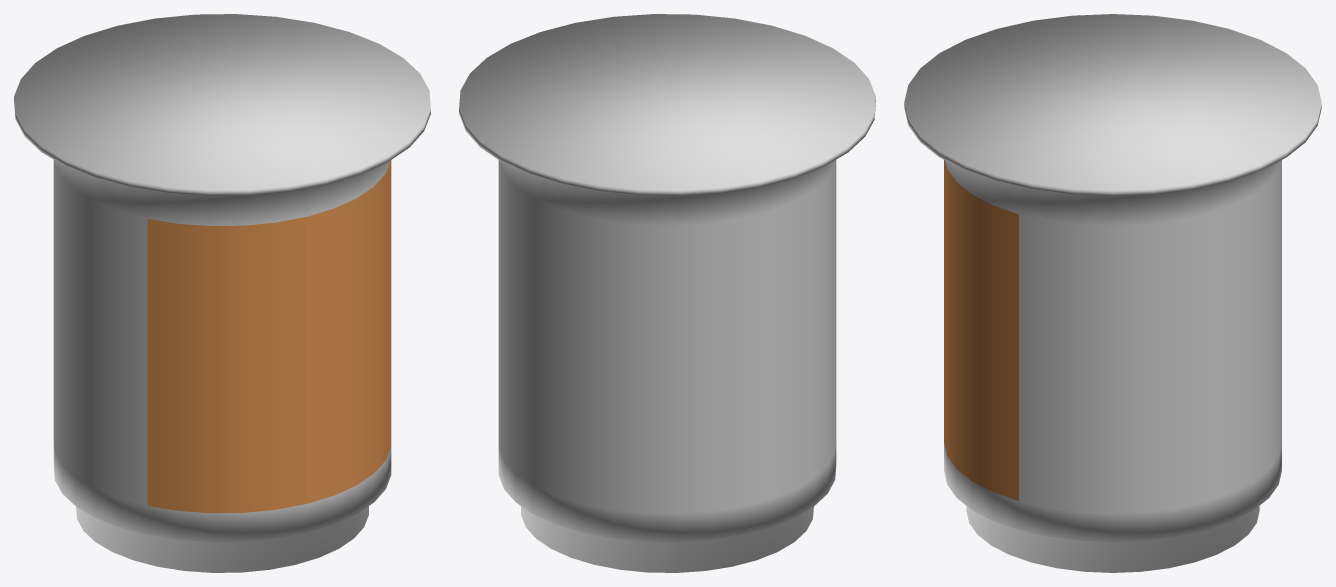
File: cubo.glb
The picture shows the model from 3 angles, left to right: view 1: azimuth 30°, elevation 25°; view 2: azimuth 150°, elevation 25°; view 3: azimuth 270°, elevation 25°; orthographic projection.
Parts seen in each view (by area): view 1: Cylinder, Cylinder.001, Cylinder.002; view 2: Cylinder; view 3: Cylinder, Cylinder.002.
Boxes of the visible parts, x1,y1,x2,y2 form: Cylinder: (14,14,430,572); Cylinder.001: (147,217,306,513); Cylinder.002: (307,160,391,503); Cylinder: (459,14,875,572); Cylinder: (904,14,1321,572); Cylinder.002: (944,160,1018,500).
Size of the model in its own units: 2.47 by 2.67 by 2.47.
